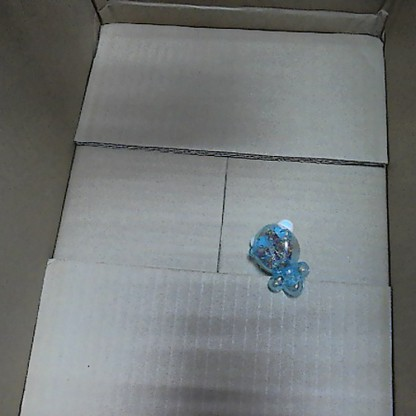bluefish: (243, 215, 313, 299)
